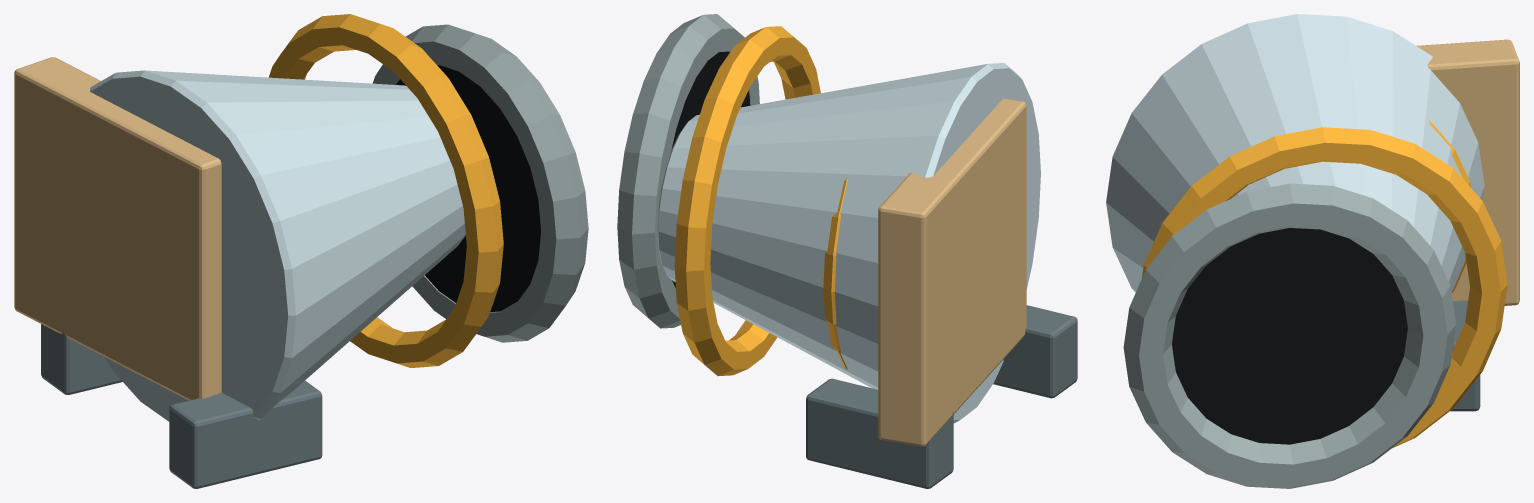
Rendered from shaped_charge.glb.
3 views of the same model, side by side, from view 1: azimuth 30°, elevation 25°; view 2: azimuth 150°, elevation 25°; view 3: azimuth 270°, elevation 25° (orthographic). The views are drawn at different scales.
Visible parts, largest first — view 1: directed_steel_cone, fabric_gasket, steel_clamp_0.18, front_steel_lip, charge_mount_-0.24, dark_front_cup, charge_mount_0.24; view 2: directed_steel_cone, fabric_gasket, steel_clamp_0.18, front_steel_lip, charge_mount_0.24, charge_mount_-0.24, steel_clamp_-0.12, dark_front_cup; view 3: directed_steel_cone, dark_front_cup, front_steel_lip, steel_clamp_0.18, fabric_gasket, charge_mount_0.24.
Part boxes in pixels (bbox=[...]): directed_steel_cone: bbox=[90, 70, 465, 421]; fabric_gasket: bbox=[14, 57, 221, 400]; steel_clamp_0.18: bbox=[268, 14, 503, 367]; front_steel_lip: bbox=[372, 24, 588, 342]; charge_mount_-0.24: bbox=[169, 380, 322, 488]; dark_front_cup: bbox=[396, 65, 540, 312]; charge_mount_0.24: bbox=[41, 324, 122, 394]; directed_steel_cone: bbox=[657, 63, 1040, 423]; fabric_gasket: bbox=[878, 98, 1026, 446]; steel_clamp_0.18: bbox=[674, 26, 820, 376]; front_steel_lip: bbox=[617, 14, 759, 328]; charge_mount_0.24: bbox=[806, 378, 953, 488]; charge_mount_-0.24: bbox=[993, 305, 1077, 398]; steel_clamp_-0.12: bbox=[823, 178, 847, 369]; dark_front_cup: bbox=[671, 51, 750, 288]; directed_steel_cone: bbox=[1106, 14, 1484, 292]; dark_front_cup: bbox=[1172, 228, 1407, 444]; front_steel_lip: bbox=[1123, 183, 1456, 488]; steel_clamp_0.18: bbox=[1142, 127, 1507, 448]; fabric_gasket: bbox=[1416, 39, 1519, 305]; charge_mount_0.24: bbox=[1450, 300, 1480, 411].
Size of the model in its own units: 0.847 by 0.7261 by 0.7613.
